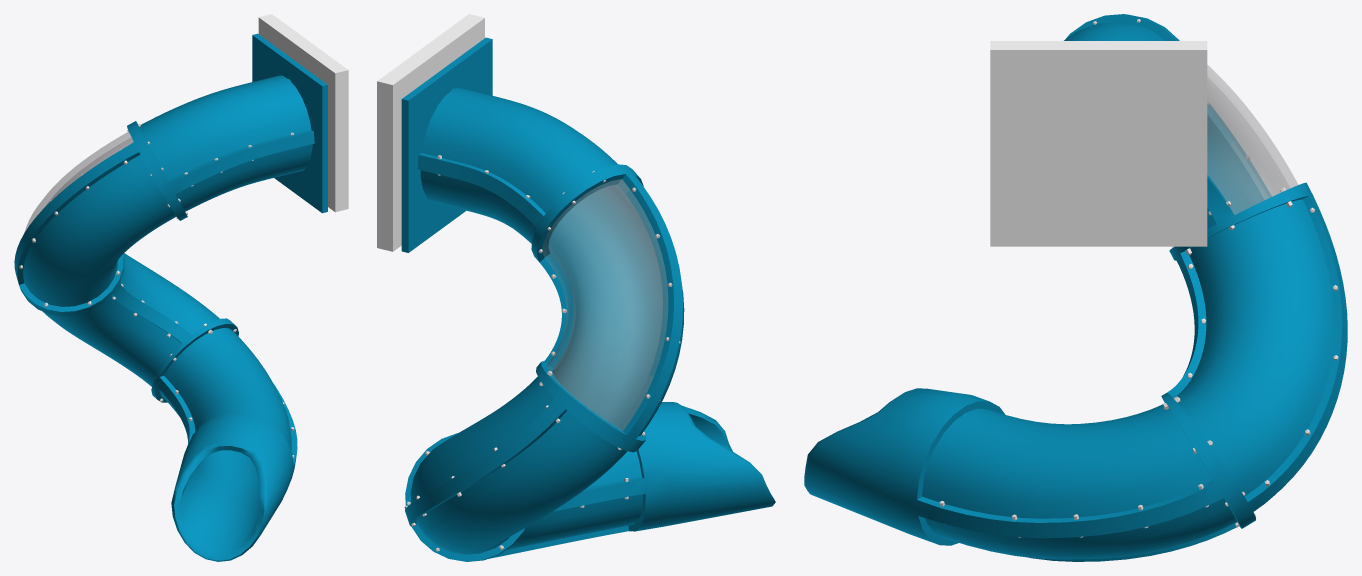
The model's file is TTWSC-7.72bbb6a5.glb.
3 views of the same model, side by side, from view 1: azimuth 30°, elevation 25°; view 2: azimuth 150°, elevation 25°; view 3: azimuth 270°, elevation 25° (orthographic). The views are drawn at different scales.
Visible parts, largest first — view 1: NurbsPath002,_colorize_, joint_c,1,8, NurbsPath003, Side_winder_slide011; view 2: NurbsPath002,_colorize_, NurbsPath003, joint_c,1,8, Side_winder_slide011; view 3: NurbsPath002,_colorize_, joint_c,1,8, NurbsPath003, Side_winder_slide011.
Part boxes in pixels (<box>): NurbsPath002,_colorize_: <box>14,33,327,561</box>; joint_c,1,8: <box>258,14,348,212</box>; NurbsPath003: <box>24,132,133,232</box>; Side_winder_slide011: <box>19,123,294,458</box>; NurbsPath002,_colorize_: <box>401,37,775,561</box>; NurbsPath003: <box>542,179,667,430</box>; joint_c,1,8: <box>377,14,484,251</box>; Side_winder_slide011: <box>404,155,682,551</box>; NurbsPath002,_colorize_: <box>804,14,1347,561</box>; joint_c,1,8: <box>990,41,1207,246</box>; NurbsPath003: <box>1207,65,1298,214</box>; Side_winder_slide011: <box>939,19,1338,537</box>.
Bounding box in the file's own units: 1.87 × 2.92 × 2.51.
4 materials, 1 textured.
